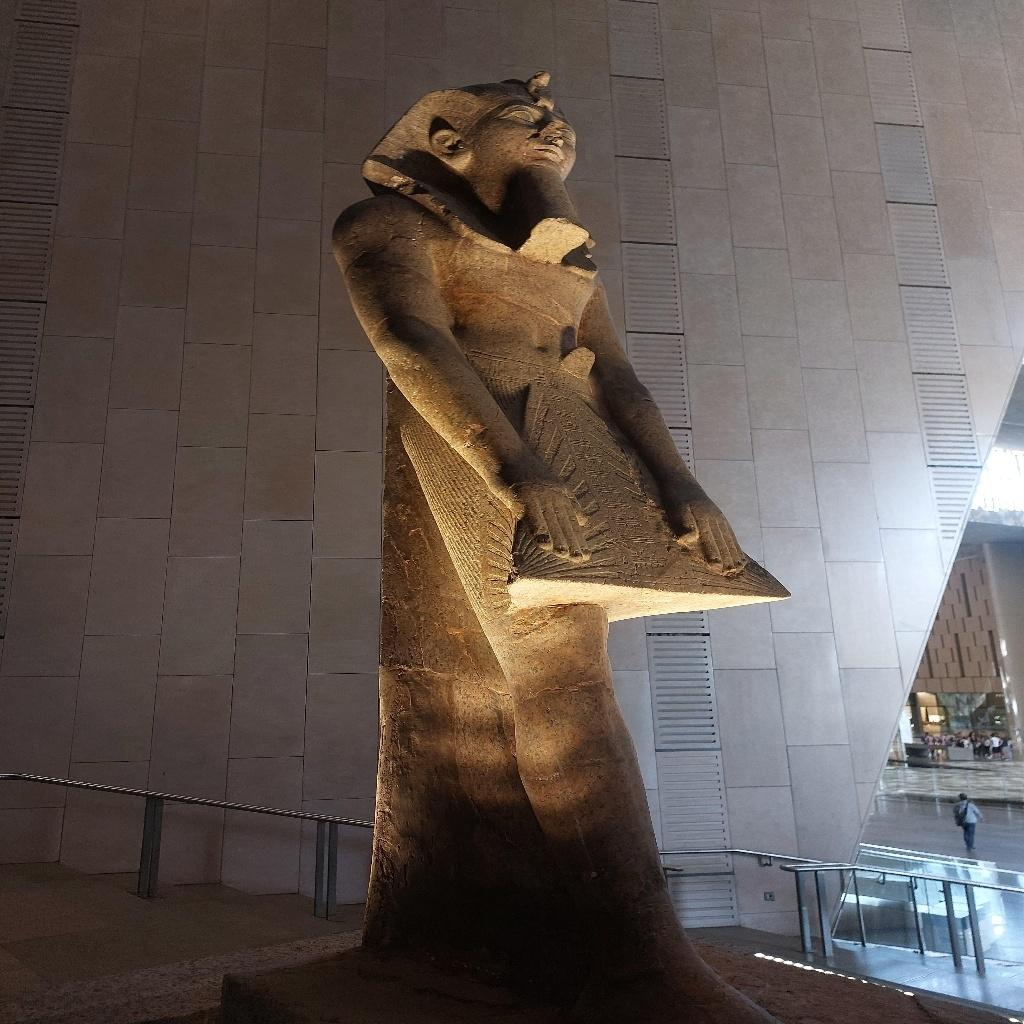Colossal Statue of Queen Hatshepsut: (324, 66, 796, 1018)
